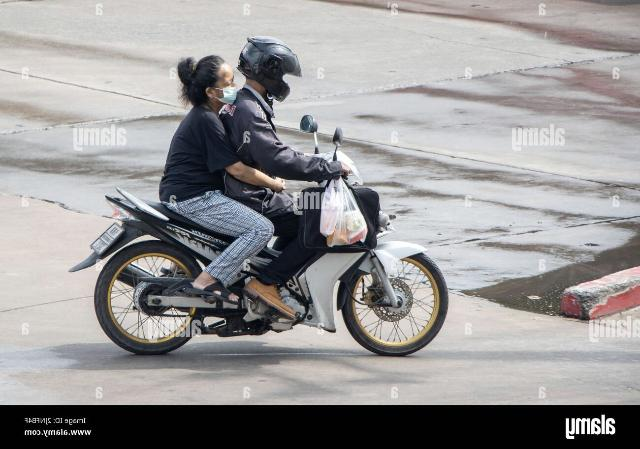helm: (239, 38, 304, 105)
motor: (72, 113, 451, 359)
non-helm: (179, 57, 237, 106)
